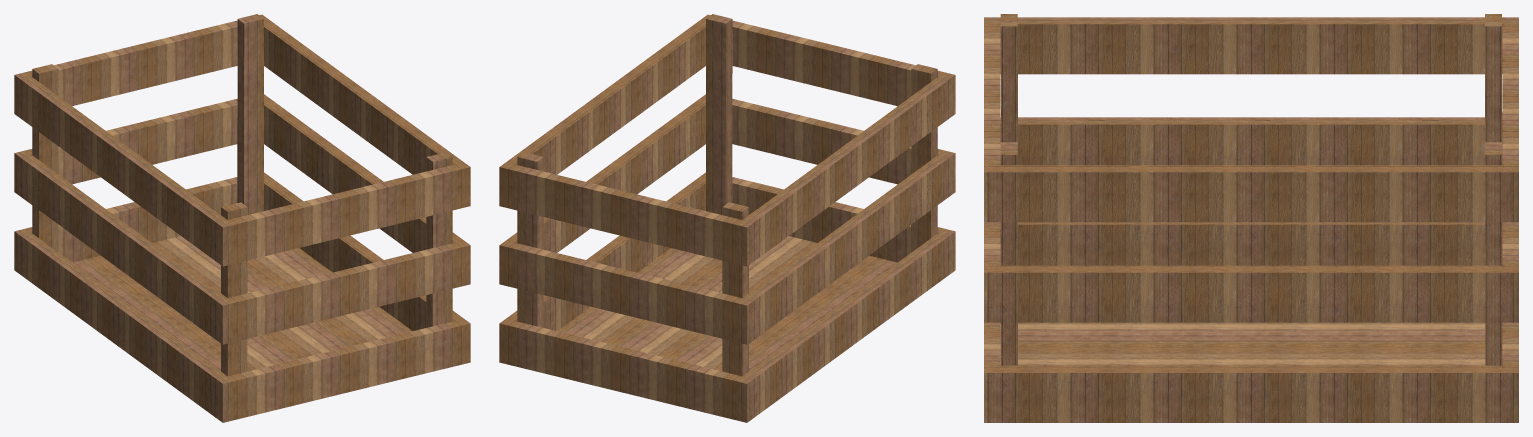
Rendered from Texture_box.v1.glb.
3 views of the same model, side by side, from view 1: azimuth 30°, elevation 25°; view 2: azimuth 150°, elevation 25°; view 3: azimuth 270°, elevation 25° (orthographic). The views are drawn at different scales.
Visible parts, largest first — view 1: Cube; view 2: Cube; view 3: Cube.
Part boxes in pixels (x1=…): Cube: x1=14, y1=14, x2=470, y2=422; Cube: x1=499, y1=14, x2=955, y2=422; Cube: x1=984, y1=14, x2=1518, y2=422.
Size of the model in its own units: 4.42 by 3.47 by 6.44.
1 material, 1 textured.
